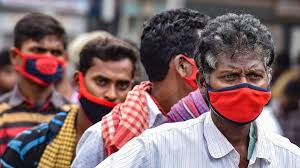with_incorrect_mask: (84, 59, 134, 120)
with_mask: (212, 56, 272, 124), (17, 39, 65, 88)
